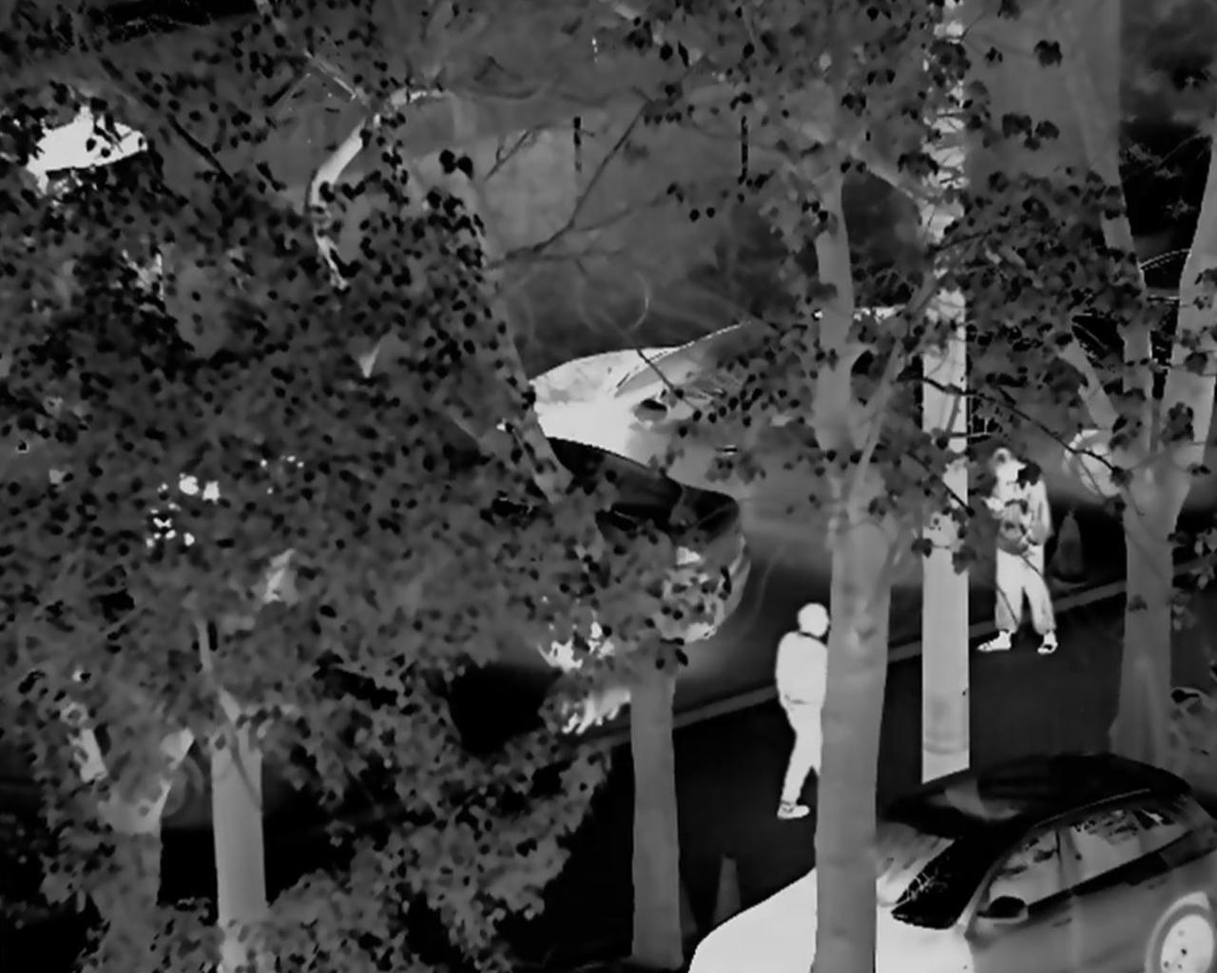person: (754, 596, 853, 818), (972, 443, 1071, 659)
